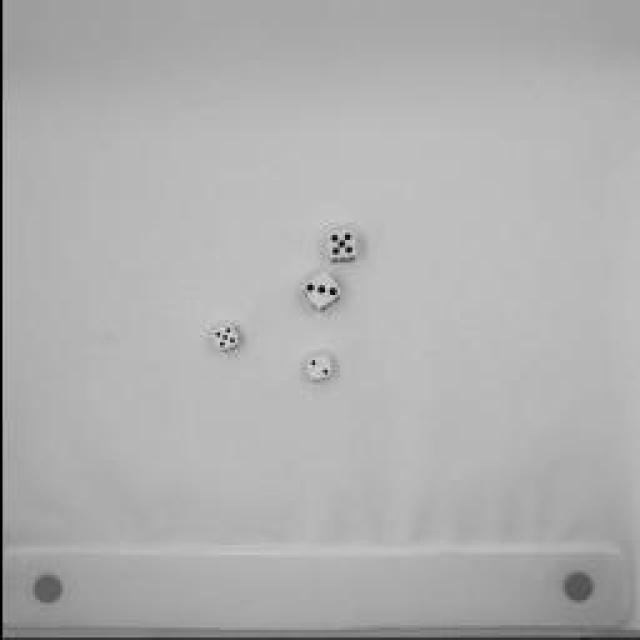dice_2: (296, 350, 334, 385)
dice_3: (294, 268, 341, 318)
dice_5: (315, 228, 365, 268), (202, 322, 242, 356)
